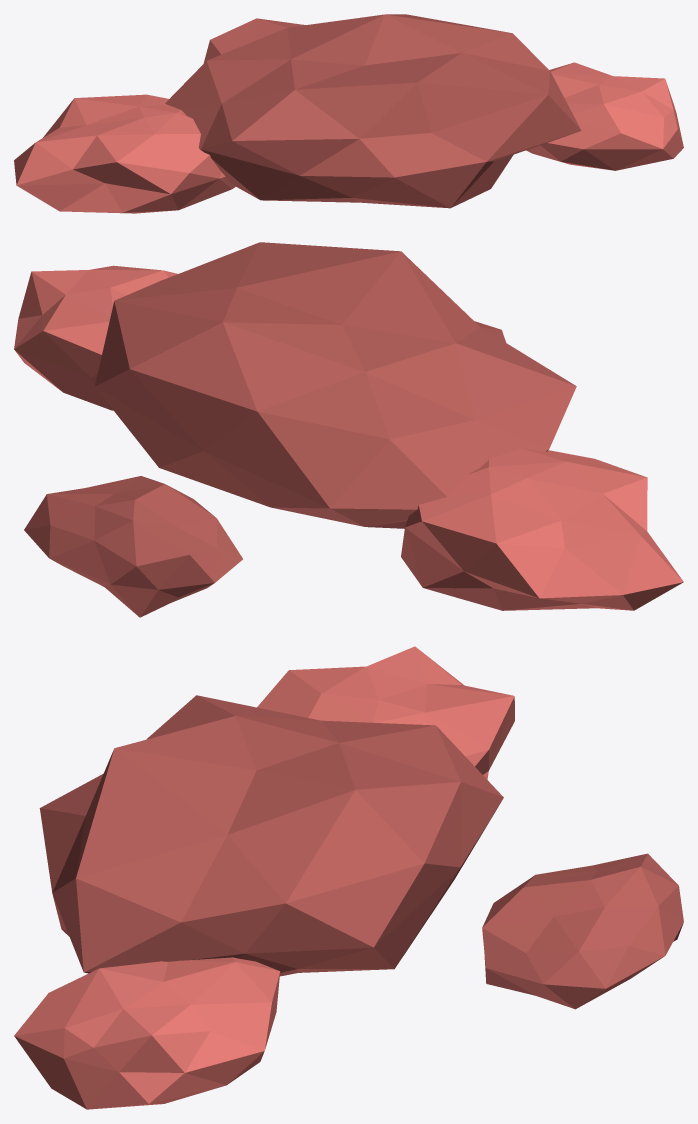
File: t5_rock_depleted.glb
3 renders of one model, top to bottom at view 1: azimuth 30°, elevation 25°; view 2: azimuth 150°, elevation 25°; view 3: azimuth 270°, elevation 25°, orthographic. The views are drawn at different scales.
Parts seen in each view (by area): view 1: RubbleCenter, RubbleLeft, RubbleRight, RubbleFront; view 2: RubbleCenter, RubbleLeft, RubbleFront, RubbleRight; view 3: RubbleCenter, RubbleRight, RubbleFront, RubbleLeft.
Boxes of the visible parts, x1=… form: RubbleCenter: x1=165, y1=14, x2=581, y2=208; RubbleLeft: x1=14, y1=94, x2=235, y2=213; RubbleRight: x1=526, y1=62, x2=683, y2=170; RubbleFront: x1=203, y1=18, x2=305, y2=63; RubbleCenter: x1=95, y1=242, x2=576, y2=528; RubbleLeft: x1=401, y1=448, x2=683, y2=610; RubbleFront: x1=24, y1=476, x2=242, y2=617; RubbleRight: x1=14, y1=265, x2=177, y2=410; RubbleCenter: x1=39, y1=695, x2=503, y2=976; RubbleRight: x1=14, y1=957, x2=280, y2=1109; RubbleFront: x1=482, y1=853, x2=683, y2=1009; RubbleLeft: x1=257, y1=646, x2=514, y2=779.
Bounding box in the file's own units: 1.02 × 0.2306 × 0.7037.
